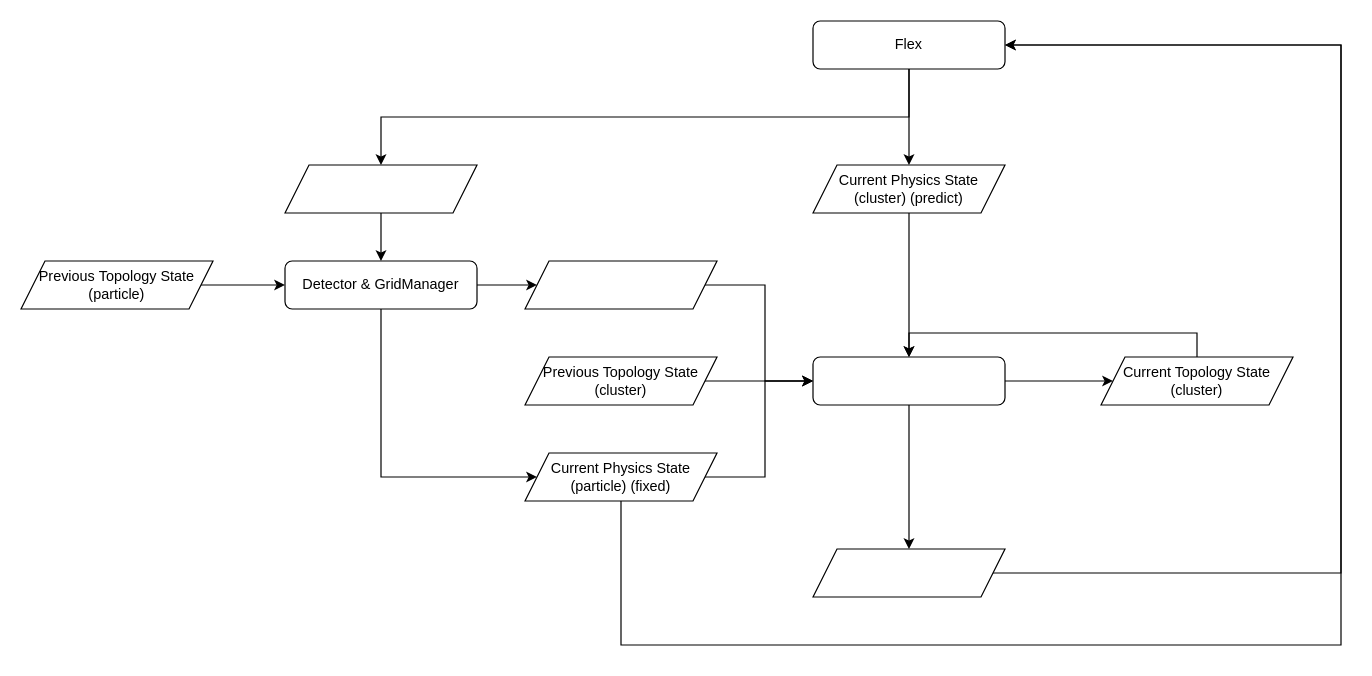
Some shapes in this 1372 by 676 pixel diagram are drawn without their labels. Each missing label, with the centre of its shape:
"ClusterManager" belongs at point (908, 380).
"Current Physics State (cluster) (fixed)" belongs at point (908, 572).
"Current Physics State (particle) (predict)" belongs at point (380, 188).
"Current Topology State (particle)" belongs at point (620, 284).
